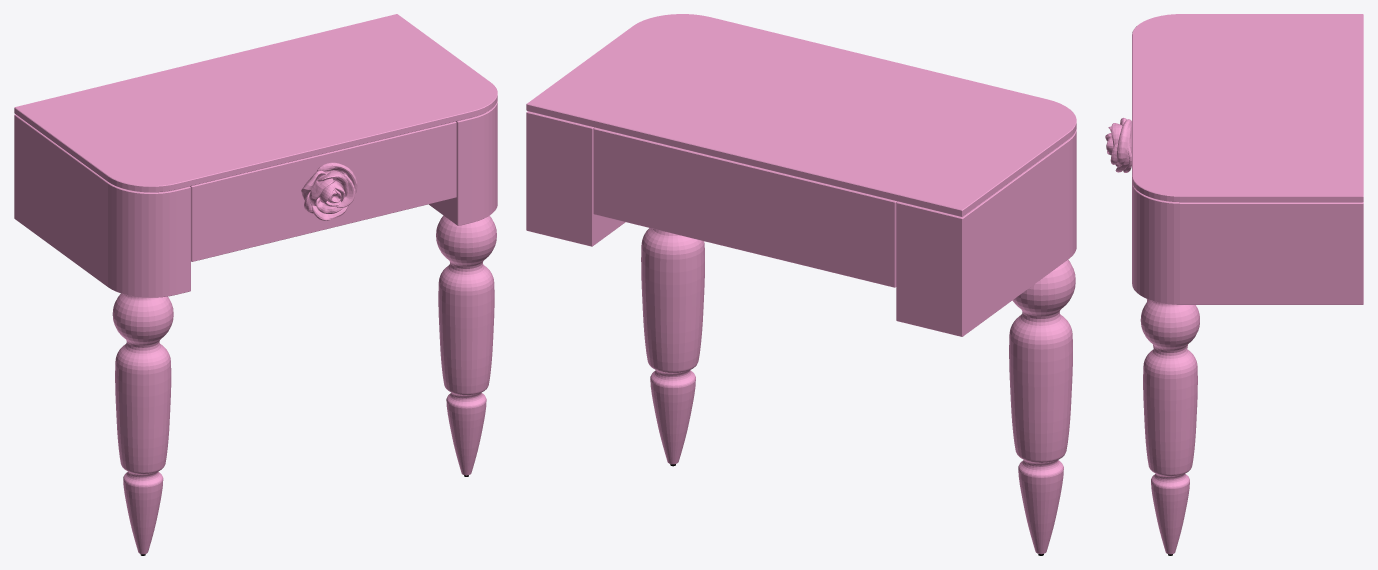
Rendered from eurolegno_amarcord_drawer_03_obj.obj.
3 renders of one model, left to right at view 1: azimuth 30°, elevation 25°; view 2: azimuth 150°, elevation 25°; view 3: azimuth 270°, elevation 25°, orthographic. The views are drawn at different scales.
Visible parts, largest first — view 1: eurolegno_amarcord_drawer_03; view 2: eurolegno_amarcord_drawer_03; view 3: eurolegno_amarcord_drawer_03.
Boxes of the visible parts, x1,y1,x2,y2 form: eurolegno_amarcord_drawer_03: (14,14,497,555); eurolegno_amarcord_drawer_03: (526,14,1076,555); eurolegno_amarcord_drawer_03: (1105,14,1363,555).
Bounding box in the file's own units: 93.06 × 88.68 × 55.71.
